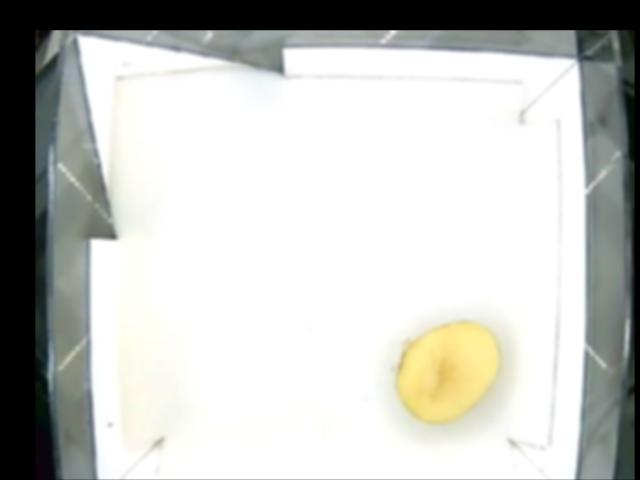Potato: (395, 319, 499, 420)
